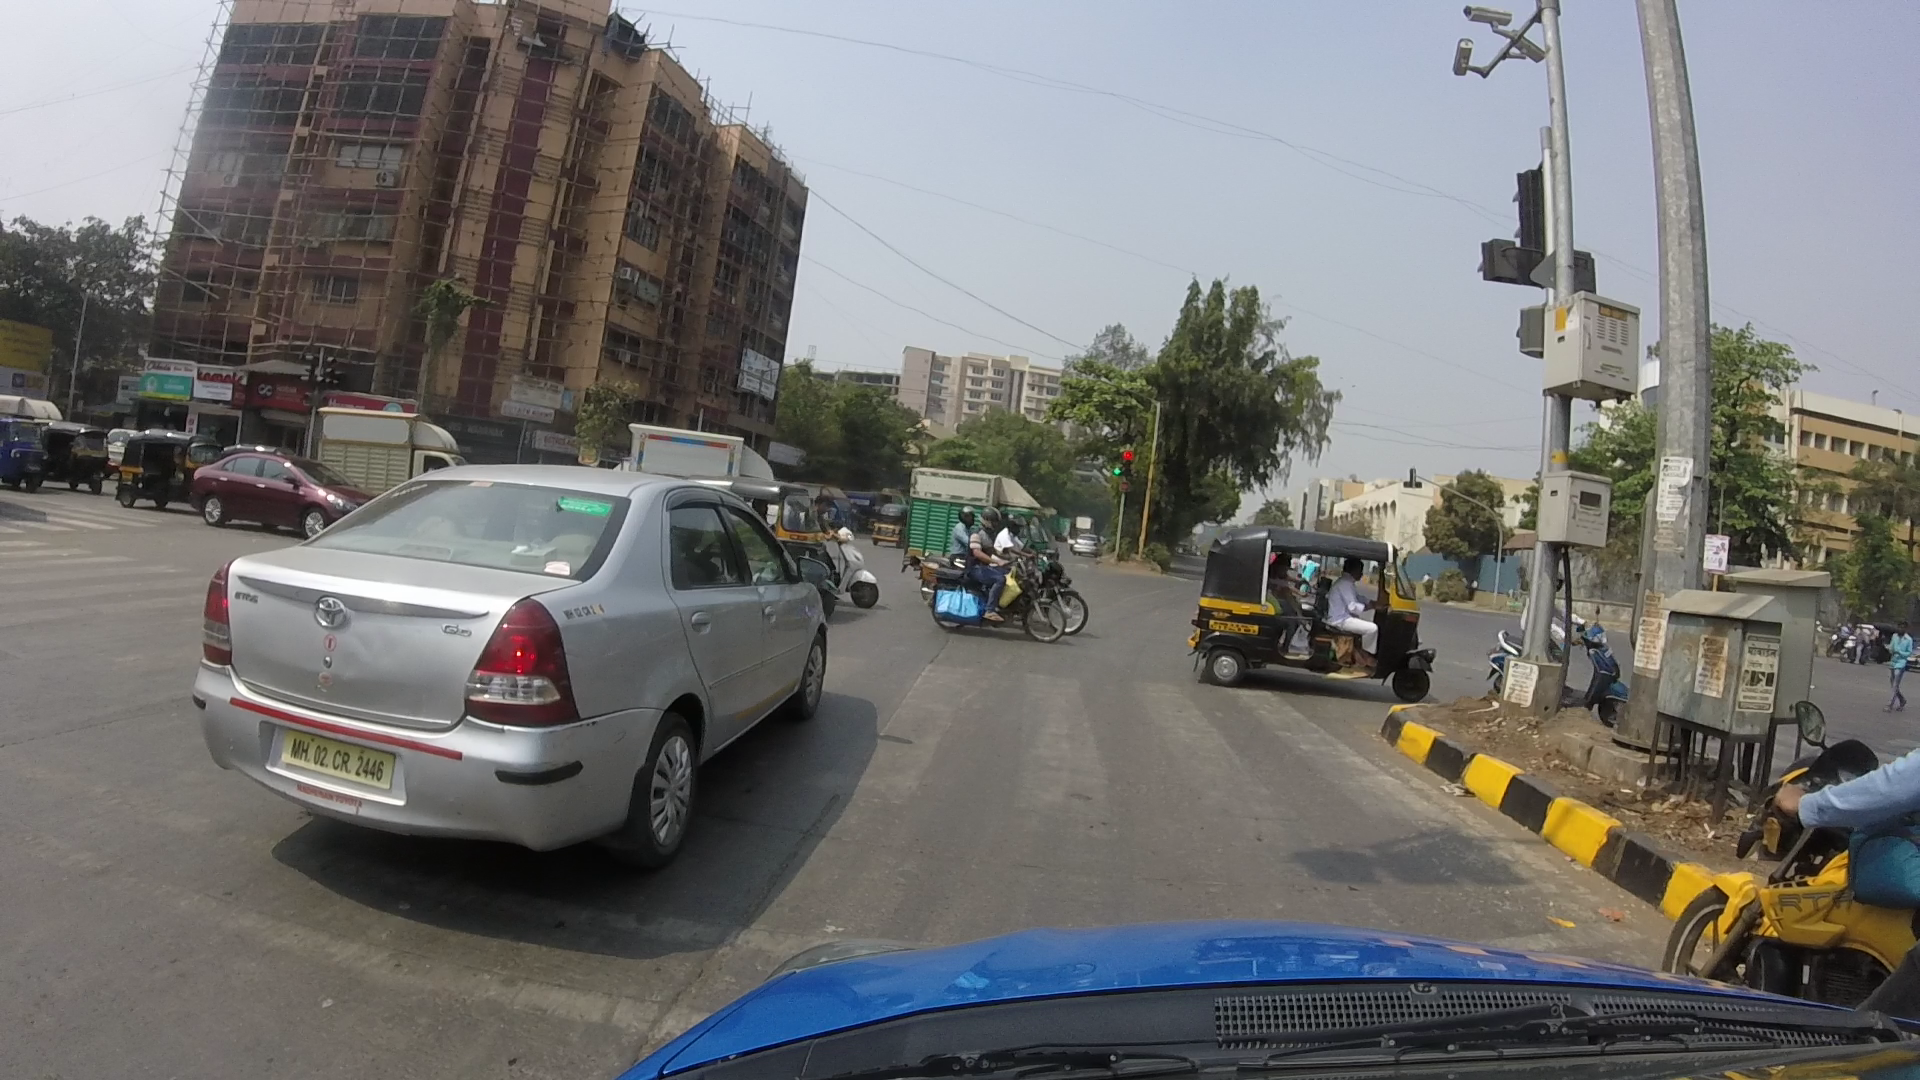bike/scooter: (1665, 680, 1920, 996), (927, 522, 1069, 650), (816, 498, 880, 617)
car: (186, 451, 833, 876), (177, 442, 367, 545)
rickshaw: (1185, 502, 1444, 711), (721, 467, 835, 595)
truck: (307, 392, 468, 492), (626, 417, 796, 505)
